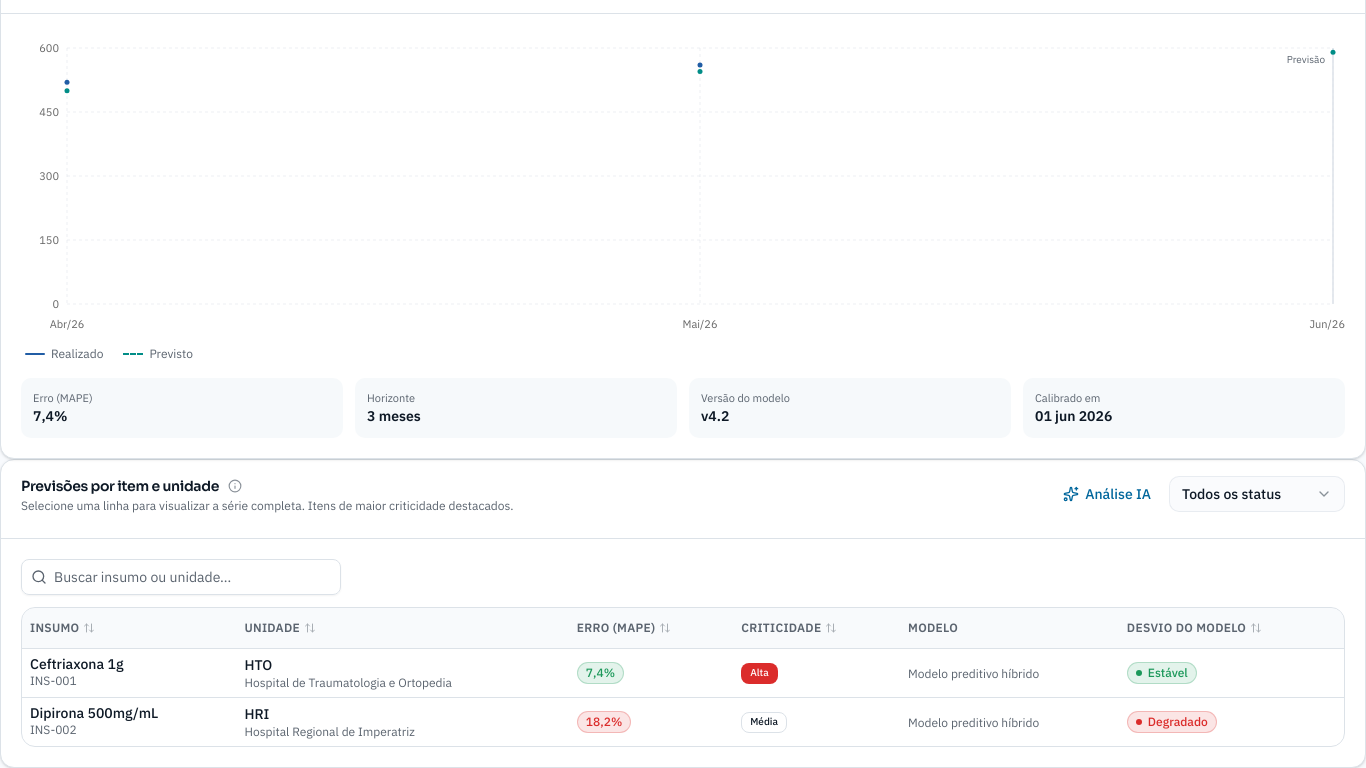
Scenario: PrevisaoPage › filtro de status sem resultado mantém o filtro acessível (não colapsa a tela)
(page scrolled)
Check: the text "Ceftriaxona 1g" is shown, box top-left (30, 655), bottom-right (123, 673)
Click the dropdown labelled "Todos os status": (1257, 494) top-left (1169, 476), bottom-right (1345, 512)
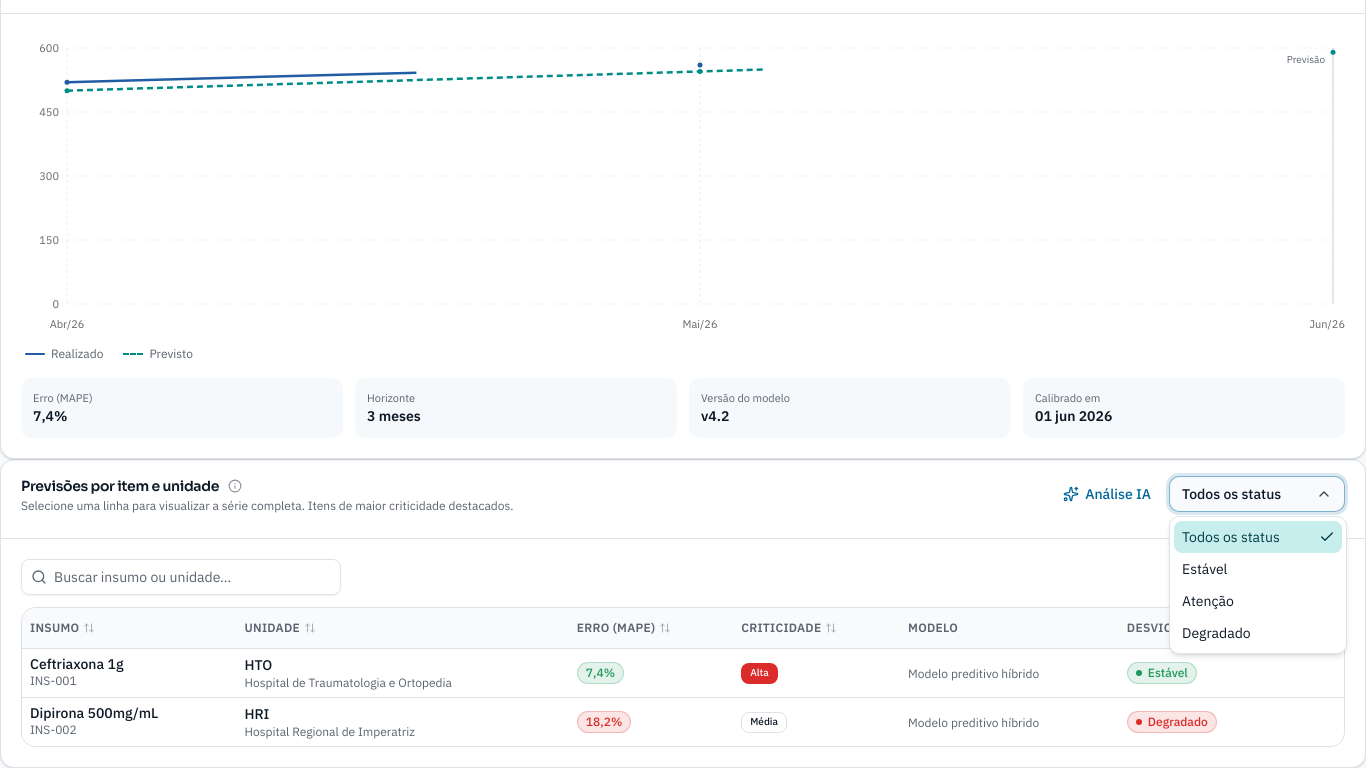
Click the option "Degradado": (1216, 633) top-left (1182, 624), bottom-right (1251, 642)
(page scrolled)
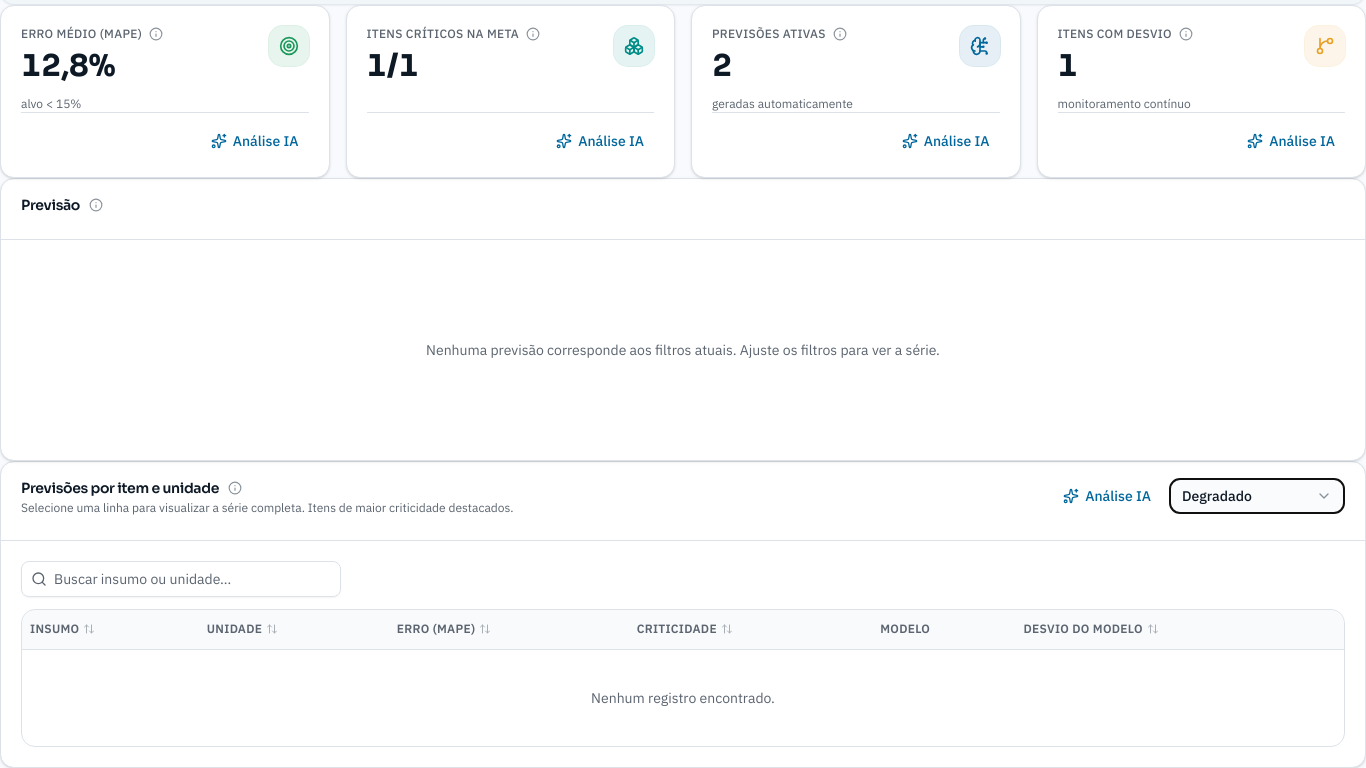
Check: the dropdown named "Todos os status" is shown, box top-left (1169, 478), bottom-right (1345, 514)
Check: the text "Nenhum registro encontrado." is shown, box top-left (22, 650), bottom-right (1344, 746)
